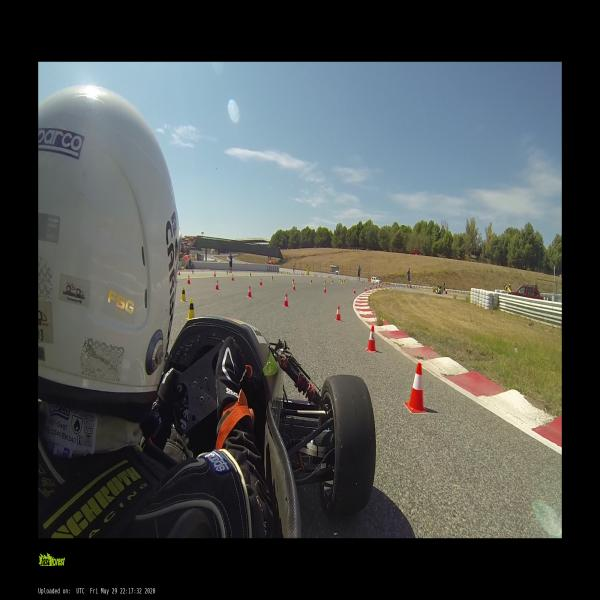orange_cone: (404, 363, 428, 413), (365, 326, 377, 353), (335, 306, 342, 321), (284, 294, 288, 308), (246, 286, 251, 297), (215, 280, 219, 290), (292, 282, 295, 292), (352, 288, 356, 294), (231, 274, 234, 281), (188, 275, 190, 284), (260, 278, 262, 286), (324, 286, 326, 292), (364, 286, 366, 292), (370, 284, 372, 290), (214, 271, 216, 277)
yellow_cone: (187, 298, 194, 319), (181, 287, 186, 302), (309, 280, 313, 284), (271, 276, 274, 281), (292, 278, 294, 284), (324, 280, 326, 285), (250, 273, 251, 277)
